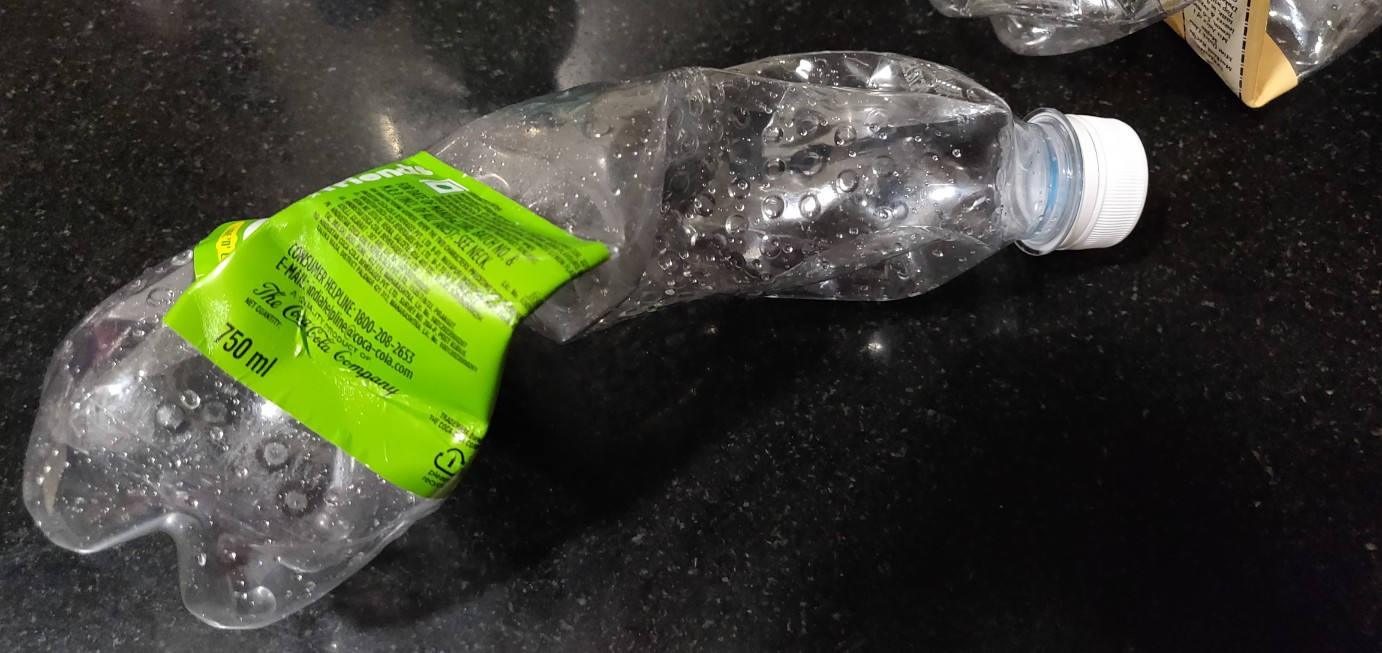Electronics: (8, 23, 1204, 651)
